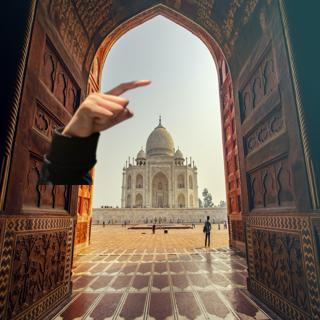WHY: (61, 74, 157, 138)
